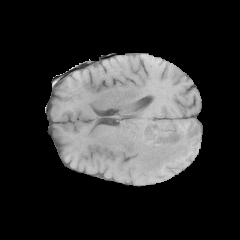glioma: (122, 120, 198, 173)
